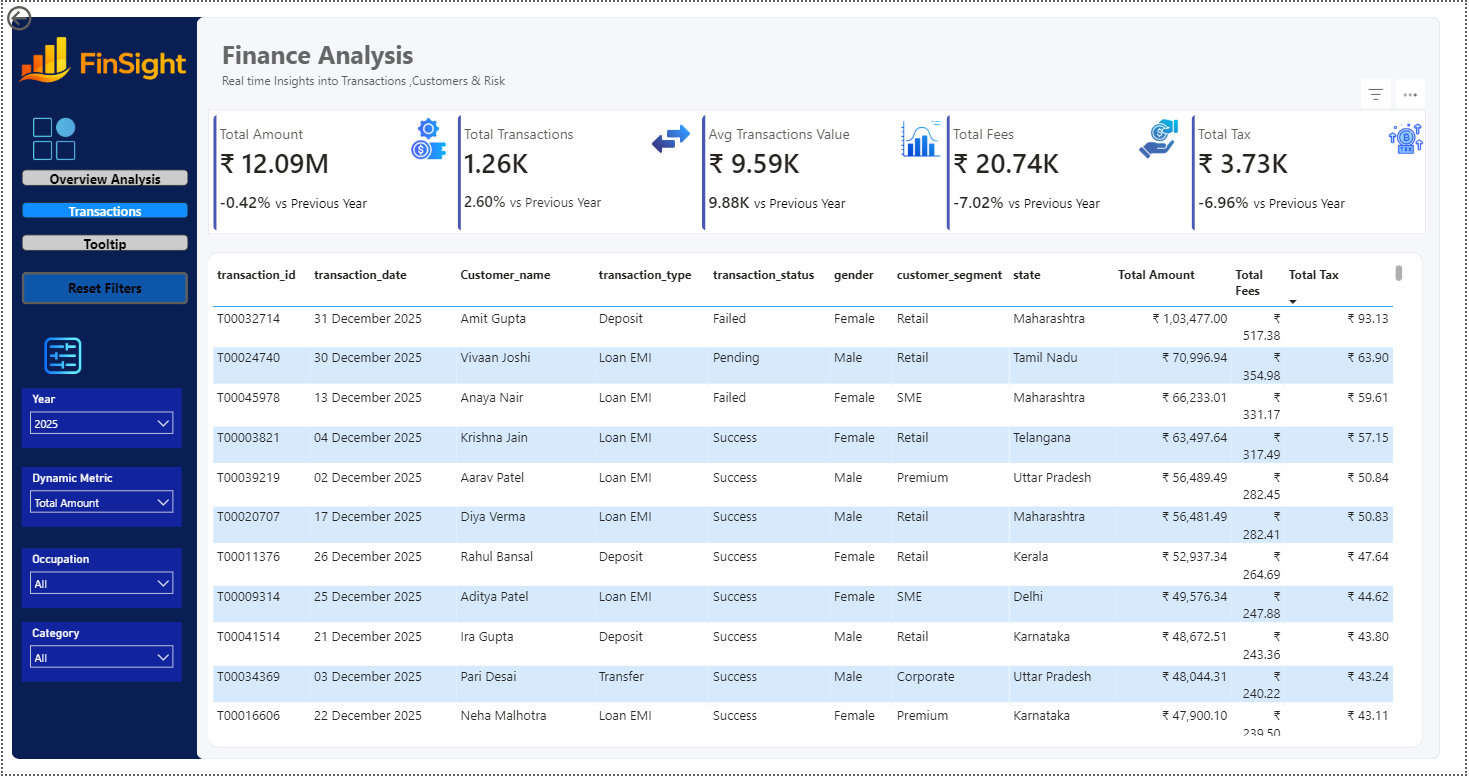

The dashboard page shown, as its layout file describes it:
{"tool":"powerbi","page":{"name":"Transactions","canvas":[1800,950],"ordinal":1},"visuals":[{"type":"shape","box":[10,18.3,280,913.3],"z":0},{"type":"shape","box":[238.3,18.3,1530,913.3],"z":1000},{"type":"image","box":[10,18.3,228.3,106.7],"z":2000},{"type":"cardVisual","fields":{"Data":["finance_transactions.Dashboard_Title"]},"box":[251.7,18.3,396.7,113.3],"z":3000},{"type":"image","box":[36.7,136.7,51.7,63.3],"z":4000},{"type":"cardVisual","fields":{"Data":["finance_transactions.Total Amount","finance_transactions.Total Transactions","finance_transactions.Avg Transactions Value","finance_transactions.Total Fees","finance_transactions.Total Tax"]},"box":[251.7,131.7,1500,155],"z":5000},{"type":"image","box":[498.3,143.3,50,50],"z":6000},{"type":"image","box":[796.7,143.3,50,50],"z":7000},{"type":"image","box":[1105,143.3,50,50],"z":8000},{"type":"image","box":[1396.7,143.3,50,50],"z":9000},{"type":"image","box":[1701.7,143.3,50,50],"z":10000},{"type":"shape","box":[251.7,308.3,1495,610],"z":12000},{"type":"tableEx","fields":{"Values":["finance_transactions.transaction_id","finance_transactions.transaction_date","customers.Customer_name","finance_transactions.transaction_type","finance_transactions.transaction_status","customers.gender","customers.customer_segment","customers.state","finance_transactions.Total Amount","finance_transactions.Total Fees","finance_transactions.Total Tax"]},"box":[251.7,318.3,1475,590],"z":13000},{"type":"actionButton","box":[0,0,100,40],"z":14000},{"type":"slicer","fields":{"Values":["Calendar Table.Year"]},"box":[23.3,475,196.7,73.3],"z":15000},{"type":"slicer","fields":{"Values":["Dynamic Metric.Dynamic Metric"]},"box":[23.3,571.7,196.7,73.3],"z":16000},{"type":"slicer","fields":{"Values":["customers.occupation"]},"box":[23.3,671.7,196.7,73.3],"z":17000},{"type":"slicer","fields":{"Values":["finance_transactions.merchant_category"]},"box":[23.3,763.3,196.7,73.3],"z":18000},{"type":"pageNavigator","box":[23.3,206.7,205,101.7],"z":19000},{"type":"image","box":[48.3,395,51.7,80],"z":20000},{"type":"actionButton","box":[23.5,332.4,204.4,39.7],"z":20001}]}

Visuals, with their boxes on the page's 1800x950 design canvas (x1, y1, x2, y2). These are canvas units, not pixel positions in the 1469x781 screenshot, which may show the page scaled, cropped or inside an application window:
shape: [10,18,290,932]
shape: [238,18,1768,932]
image: [10,18,238,125]
cardVisual - finance_transactions.Dashboard_Title: [252,18,648,132]
image: [37,137,88,200]
cardVisual - finance_transactions.Total Amount x finance_transactions.Total Transactions: [252,132,1752,287]
image: [498,143,548,193]
image: [797,143,847,193]
image: [1105,143,1155,193]
image: [1397,143,1447,193]
image: [1702,143,1752,193]
shape: [252,308,1747,918]
tableEx - finance_transactions.transaction_id x finance_transactions.transaction_date: [252,318,1727,908]
actionButton: [0,0,100,40]
slicer - Calendar Table.Year: [23,475,220,548]
slicer - Dynamic Metric.Dynamic Metric: [23,572,220,645]
slicer - customers.occupation: [23,672,220,745]
slicer - finance_transactions.merchant_category: [23,763,220,837]
pageNavigator: [23,207,228,308]
image: [48,395,100,475]
actionButton: [24,332,228,372]
